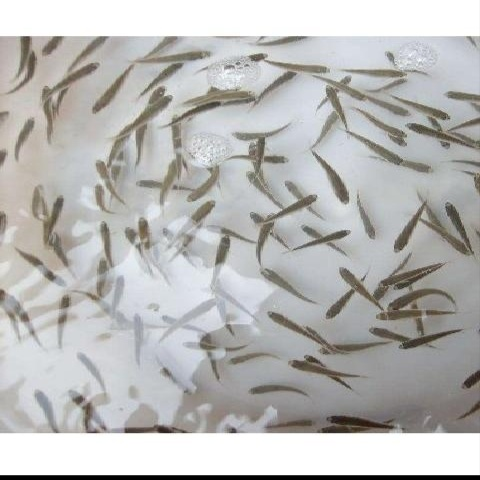fry: (252, 263, 309, 303), (21, 248, 65, 292), (160, 361, 206, 401), (86, 68, 122, 118), (349, 132, 400, 166), (372, 304, 457, 324), (316, 156, 353, 201), (131, 213, 160, 270), (428, 223, 469, 262), (126, 93, 174, 125), (387, 205, 418, 254), (320, 407, 389, 429), (223, 119, 291, 141), (398, 326, 460, 350), (266, 53, 332, 75), (164, 111, 188, 170), (259, 306, 303, 338), (435, 193, 467, 236), (334, 262, 374, 296), (272, 191, 316, 221), (169, 295, 214, 324), (61, 36, 112, 61), (51, 62, 102, 87), (345, 62, 411, 81), (140, 61, 188, 87), (330, 74, 369, 106), (13, 116, 42, 159), (171, 99, 222, 123), (174, 338, 242, 356), (126, 309, 146, 370), (186, 87, 257, 104), (317, 339, 384, 357), (116, 222, 145, 263), (309, 109, 345, 142), (71, 348, 101, 387), (224, 150, 292, 167), (181, 198, 215, 232), (22, 181, 49, 223), (363, 113, 408, 138), (51, 292, 77, 335), (152, 47, 217, 64), (242, 379, 300, 398), (352, 198, 379, 238), (246, 170, 277, 204), (259, 69, 299, 95), (403, 120, 449, 142), (16, 53, 41, 93), (129, 119, 151, 164), (218, 50, 270, 69), (375, 95, 412, 121), (36, 82, 56, 130), (29, 389, 58, 422), (182, 176, 217, 203), (204, 219, 245, 242), (90, 304, 126, 330), (21, 304, 43, 346), (108, 124, 133, 160), (367, 73, 412, 93), (403, 153, 439, 178), (323, 289, 350, 322), (212, 301, 235, 339), (256, 210, 274, 258), (266, 414, 320, 430), (92, 155, 115, 192), (312, 227, 352, 248), (43, 192, 65, 230), (383, 292, 432, 309), (438, 84, 479, 104), (89, 257, 110, 295), (11, 34, 29, 78), (93, 218, 115, 254), (211, 234, 229, 278), (253, 36, 309, 50), (158, 156, 175, 202), (418, 100, 455, 121), (204, 279, 237, 302), (322, 81, 344, 115), (142, 37, 183, 55), (225, 350, 268, 367), (279, 174, 305, 202), (171, 229, 200, 254), (105, 154, 129, 184), (250, 135, 268, 174), (304, 324, 329, 352), (421, 203, 446, 230), (64, 385, 88, 413), (0, 290, 15, 333), (36, 35, 64, 58), (429, 122, 449, 154), (372, 267, 405, 286), (283, 358, 314, 378), (127, 172, 161, 190), (456, 367, 477, 396), (89, 182, 108, 214), (454, 167, 479, 190), (245, 207, 267, 233), (111, 271, 126, 308), (301, 349, 324, 373), (299, 223, 328, 242), (143, 419, 182, 433), (457, 401, 479, 424), (451, 114, 479, 132), (454, 130, 479, 150), (406, 64, 435, 81), (140, 84, 166, 102), (362, 324, 392, 339), (452, 153, 478, 170), (366, 285, 392, 302), (159, 311, 186, 327), (0, 207, 12, 241), (88, 328, 117, 342), (386, 130, 409, 147), (397, 277, 426, 290), (160, 225, 177, 247), (52, 89, 68, 111), (383, 48, 400, 68), (461, 36, 479, 53), (0, 105, 14, 126), (389, 257, 414, 268), (0, 147, 10, 167)
